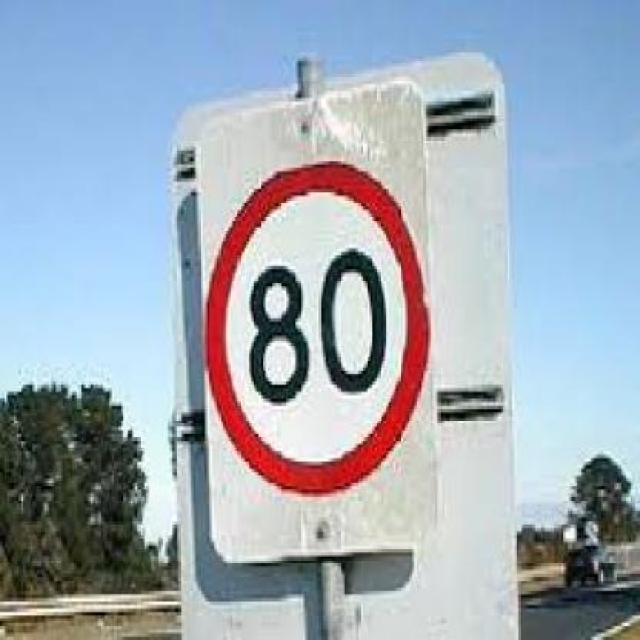forb_speed_over_80: (214, 169, 421, 488)
